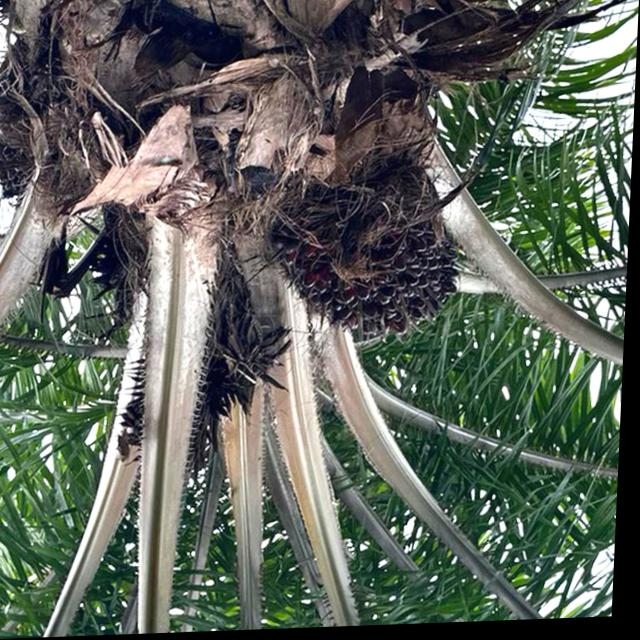almost: (254, 153, 475, 353)
